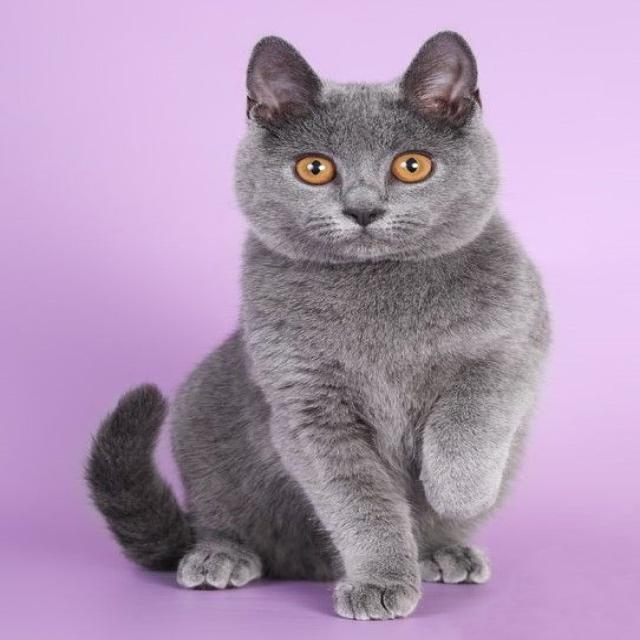british shorthair: (72, 26, 640, 640)
